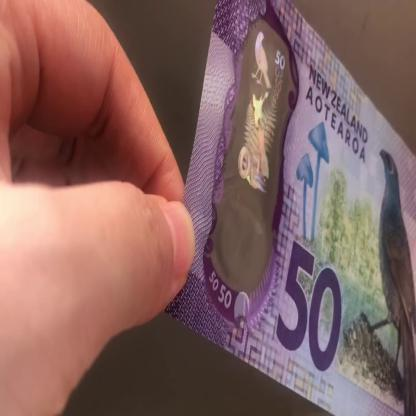50B: (229, 26, 287, 288)
